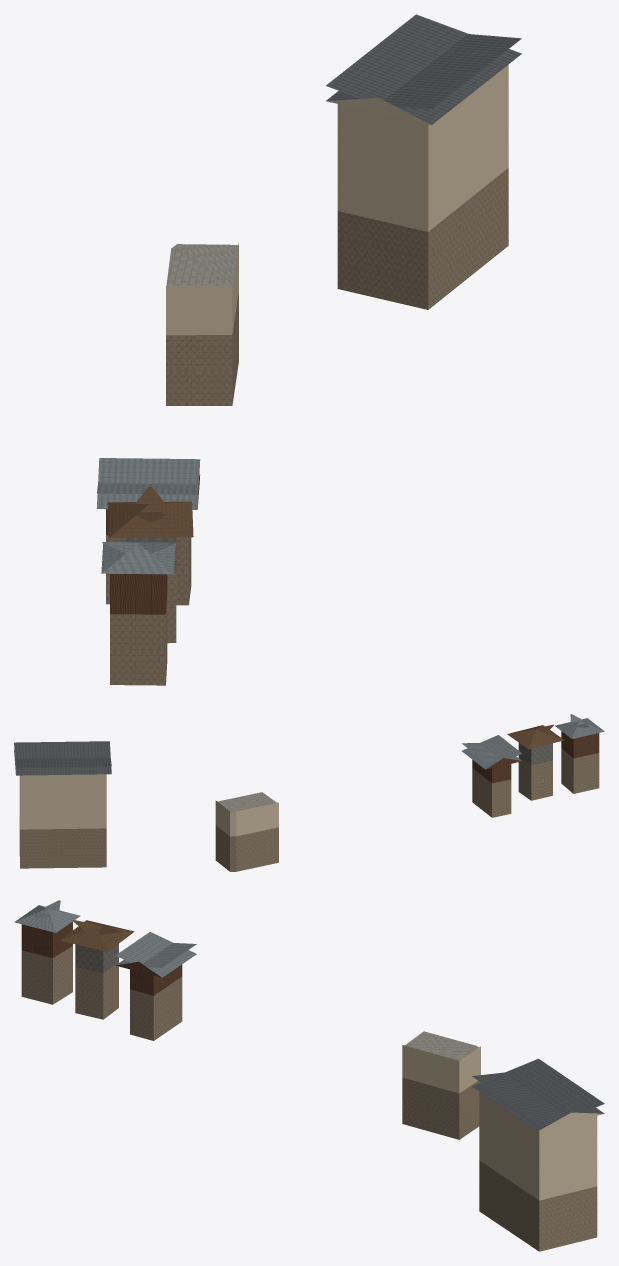
Rendered from bld_c-3_17_533.gltf.
3 views of the same model, one above another, from view 1: azimuth 30°, elevation 25°; view 2: azimuth 150°, elevation 25°; view 3: azimuth 270°, elevation 25° (orthographic). The views are drawn at different scales.
Visible parts, largest first — view 1: bld_c-3_17_533; view 2: bld_c-3_17_533; view 3: bld_c-3_17_533.
Boxes of the visible parts, x1,y1,x2,y2 form: bld_c-3_17_533: (96,14,521,685); bld_c-3_17_533: (14,714,604,871); bld_c-3_17_533: (14,900,604,1251).
Size of the model in its own units: 54.82 by 13.4 by 53.4.
Materials: 10 (10 with a texture image).
